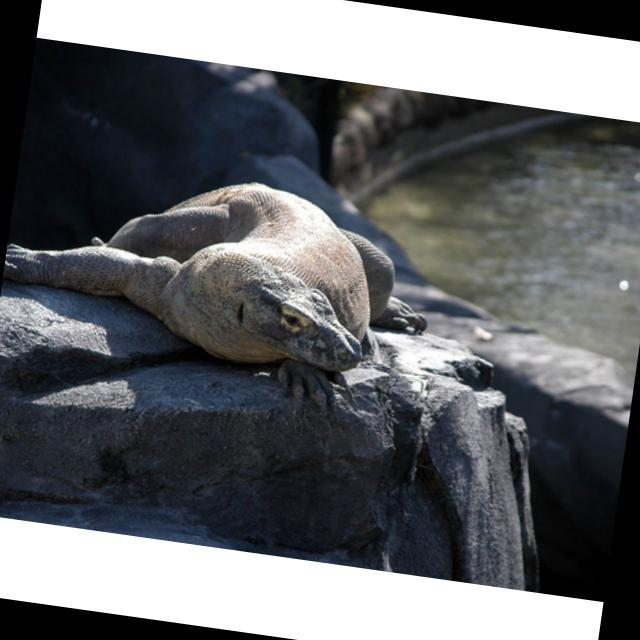KomodoDragon: (0, 148, 450, 392)
